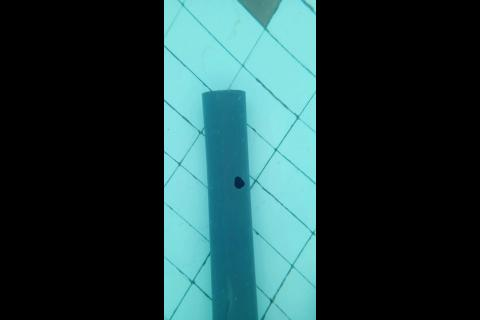kebocoran: (234, 175, 245, 189)
